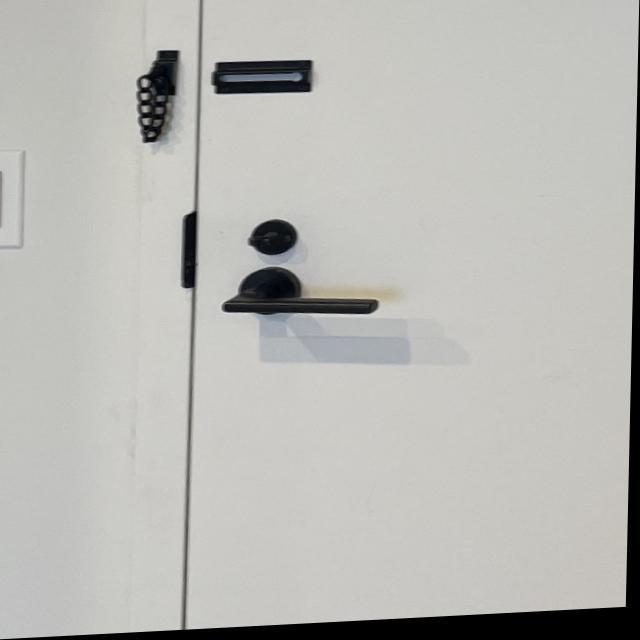door_handle: (212, 259, 397, 335)
